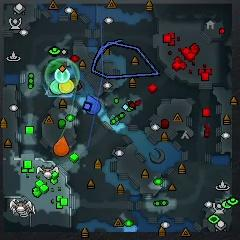p1: (85, 94, 101, 115)
p2: (49, 79, 63, 96)
p4: (58, 76, 75, 96)
p5: (53, 136, 70, 157)
